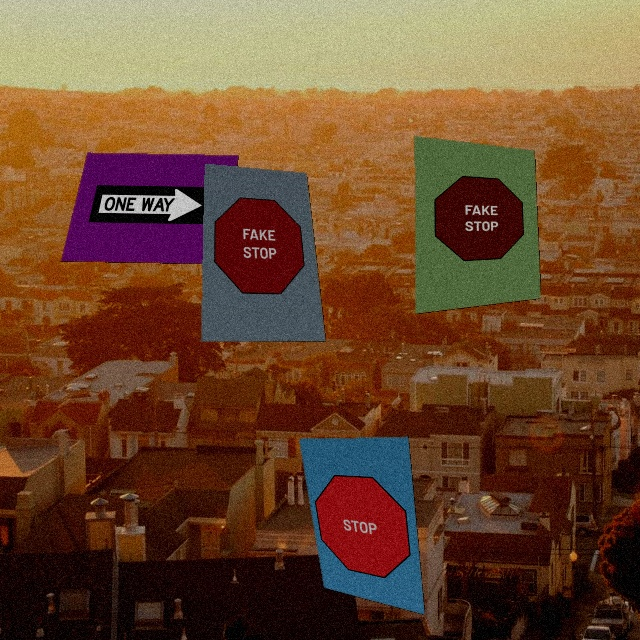FAKE_STOP: (434, 170, 525, 273), (214, 196, 308, 295)
ONE_WAY_ right: (89, 182, 213, 227)
STOP: (310, 474, 413, 584)
